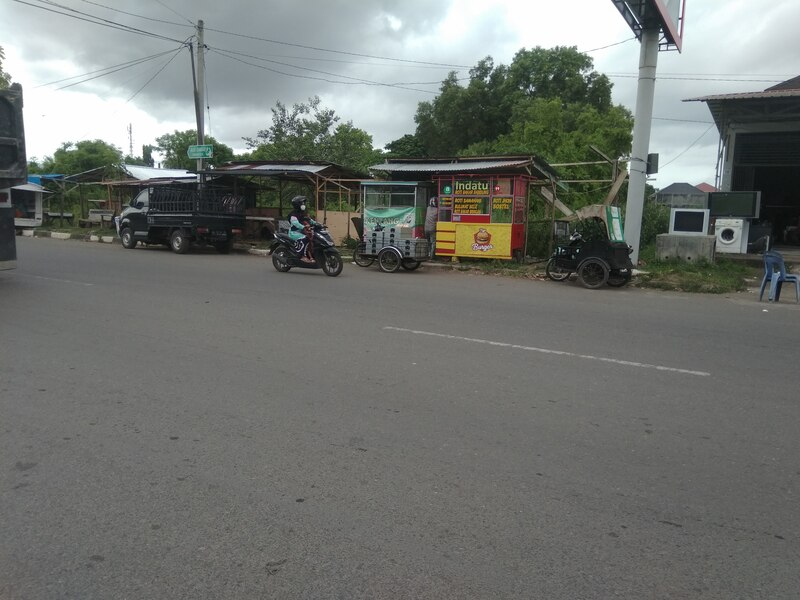becak barang: (351, 217, 432, 275)
